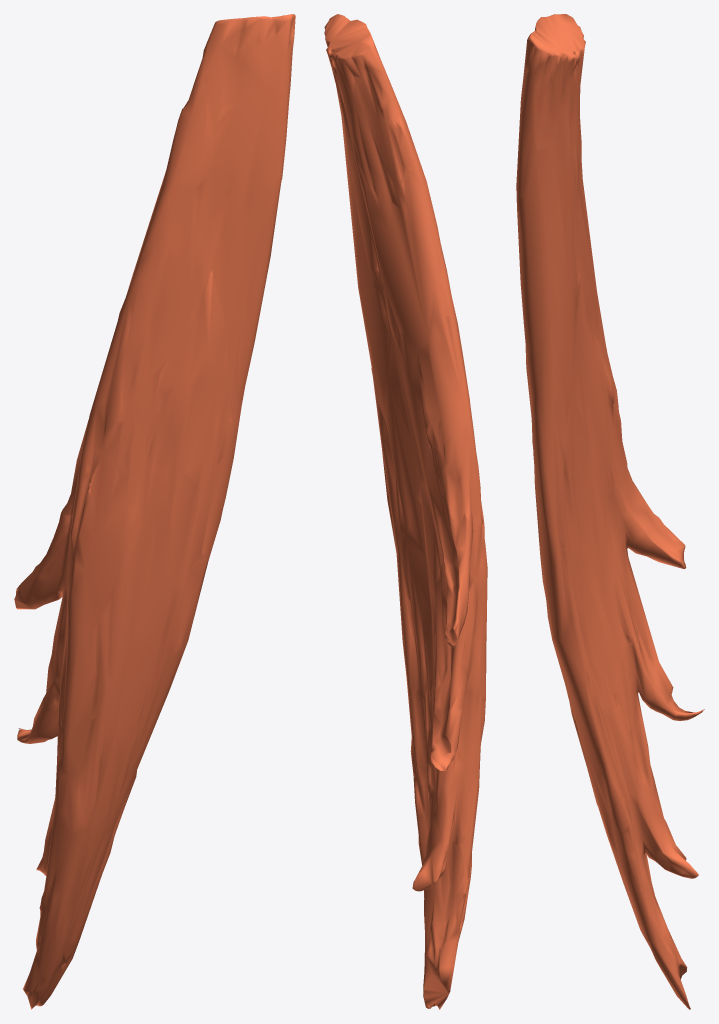
The model's file is Longus_capitis_muscle.r_Generated_Mesh_From_X3D.367.glb.
The picture shows the model from 3 angles, left to right: view 1: azimuth 30°, elevation 25°; view 2: azimuth 150°, elevation 25°; view 3: azimuth 270°, elevation 25°; orthographic projection. The views are drawn at different scales.
Parts seen in each view (by area): view 1: Longus_capitis_muscle.r_Generated_Mesh_From_X3D.367; view 2: Longus_capitis_muscle.r_Generated_Mesh_From_X3D.367; view 3: Longus_capitis_muscle.r_Generated_Mesh_From_X3D.367.
Part boxes in pixels (bbox=[...]): Longus_capitis_muscle.r_Generated_Mesh_From_X3D.367: bbox=[14, 14, 295, 1009]; Longus_capitis_muscle.r_Generated_Mesh_From_X3D.367: bbox=[324, 14, 487, 1009]; Longus_capitis_muscle.r_Generated_Mesh_From_X3D.367: bbox=[516, 14, 704, 1009].
Size of the model in its own units: 0.0243 by 0.11 by 0.0176.
